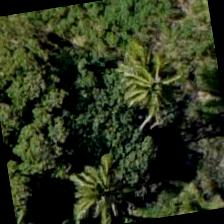Kelapa_Sawit: (98, 39, 202, 142), (50, 142, 152, 223)
